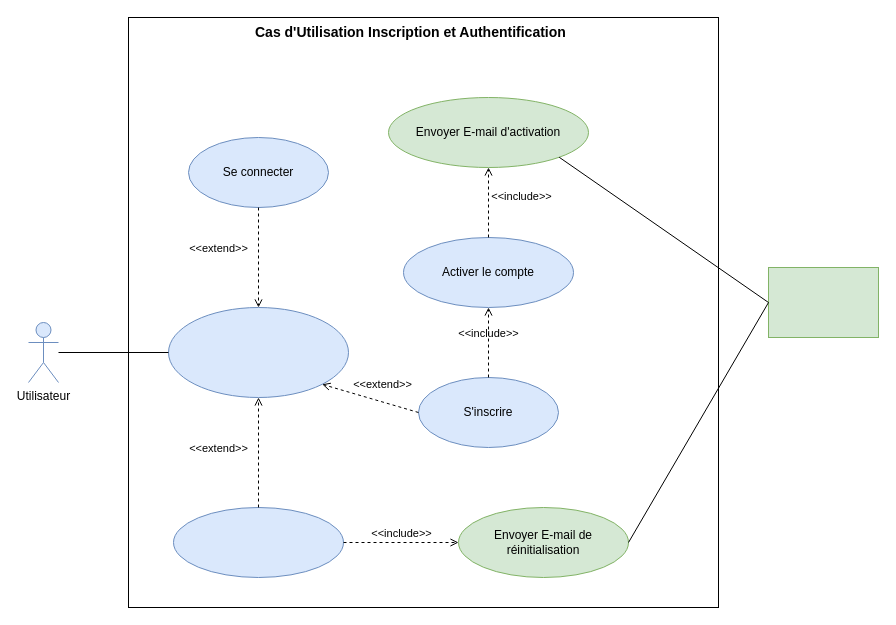
This 896x625 diagram has some shape labels left out. The centre of each missing label's shape, as x and y in pixels:
"<<actor>> Système SpofunCoach" belongs at [823,302].
"Réinitialiser mot de passe" belongs at [258,542].
"S'authentifier" belongs at [258,352].
